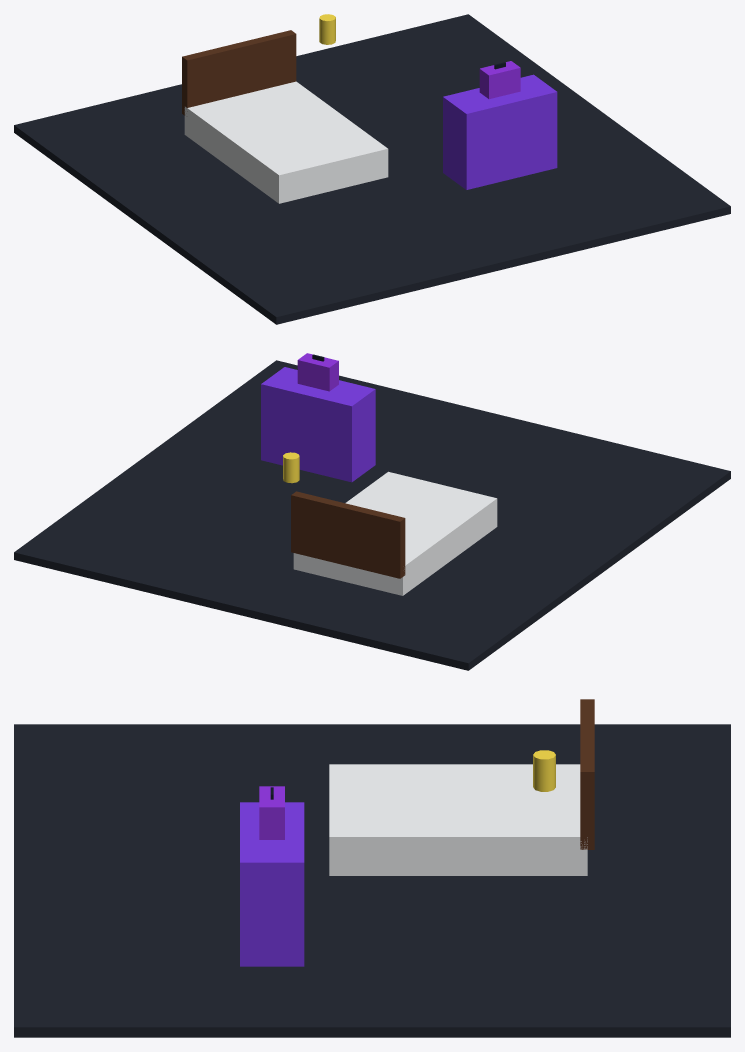
File: hotel.glb
The picture shows the model from 3 angles, top to bottom: view 1: azimuth 30°, elevation 25°; view 2: azimuth 150°, elevation 25°; view 3: azimuth 270°, elevation 25°; orthographic projection. The views are drawn at different scales.
Size of the model in its own units: 5 by 1.2 by 5.
